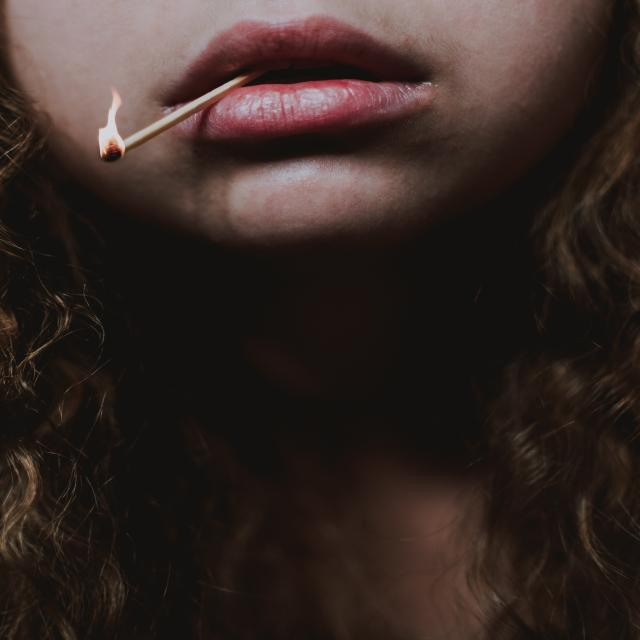fire: (82, 75, 138, 162)
